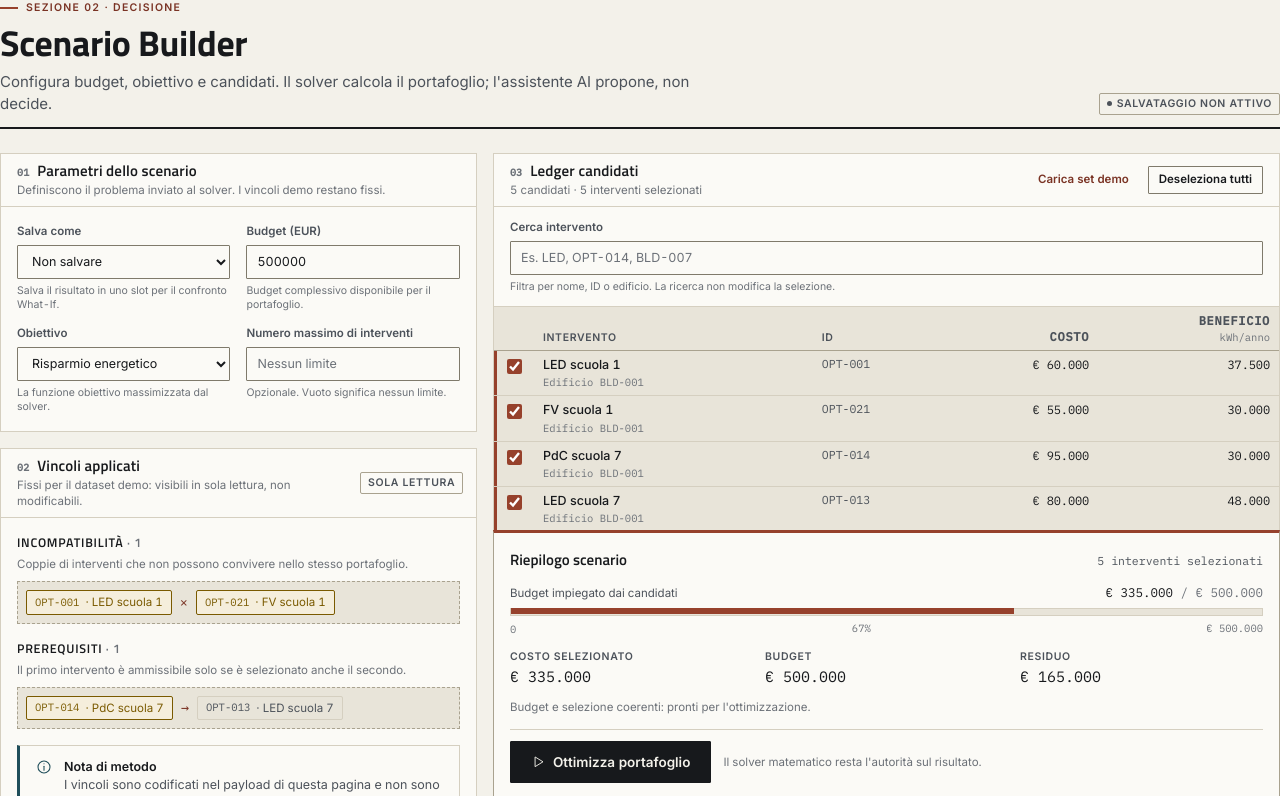
Scenario: ScenarioBuilder › ledger: ricerca filtrabile, checkbox accessibili e selezione totale
Expected: the checkbox named "Seleziona LED scuola 1" is checked, [507,359,522,374]
Expected: the text "5 candidati · 5 interventi selezionati" is shown, [510,182,702,198]
Type "FV" into the search field labelled "Cerca intervento" at (886, 258), box [510,241,1263,275]
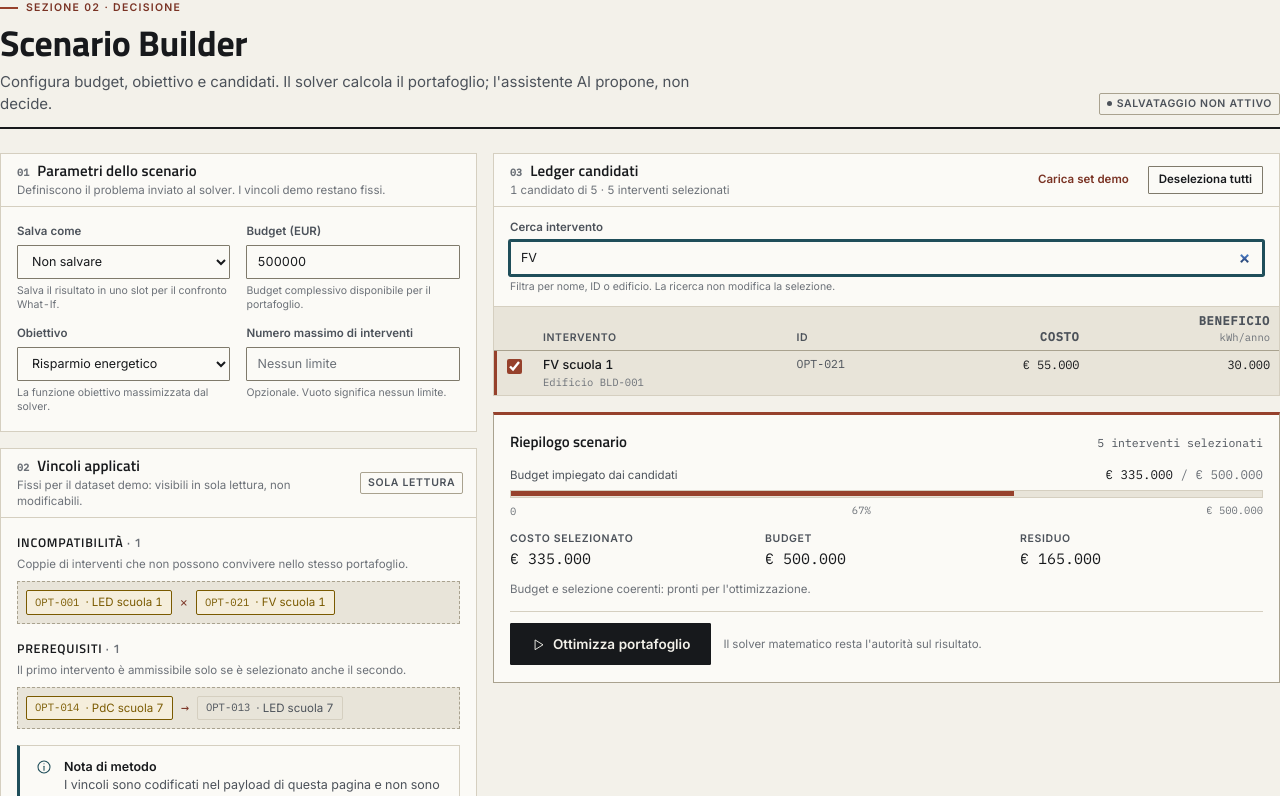
Expected: the checkbox named "Seleziona FV scuola 1" is shown, [507,359,522,374]
Now the text "1 candidato di 5 · 5 interventi selezionati" is shown, box [510,182,730,198]
Clear the search field labelled "Cerca intervento" at (886, 258), box [510,241,1263,275]
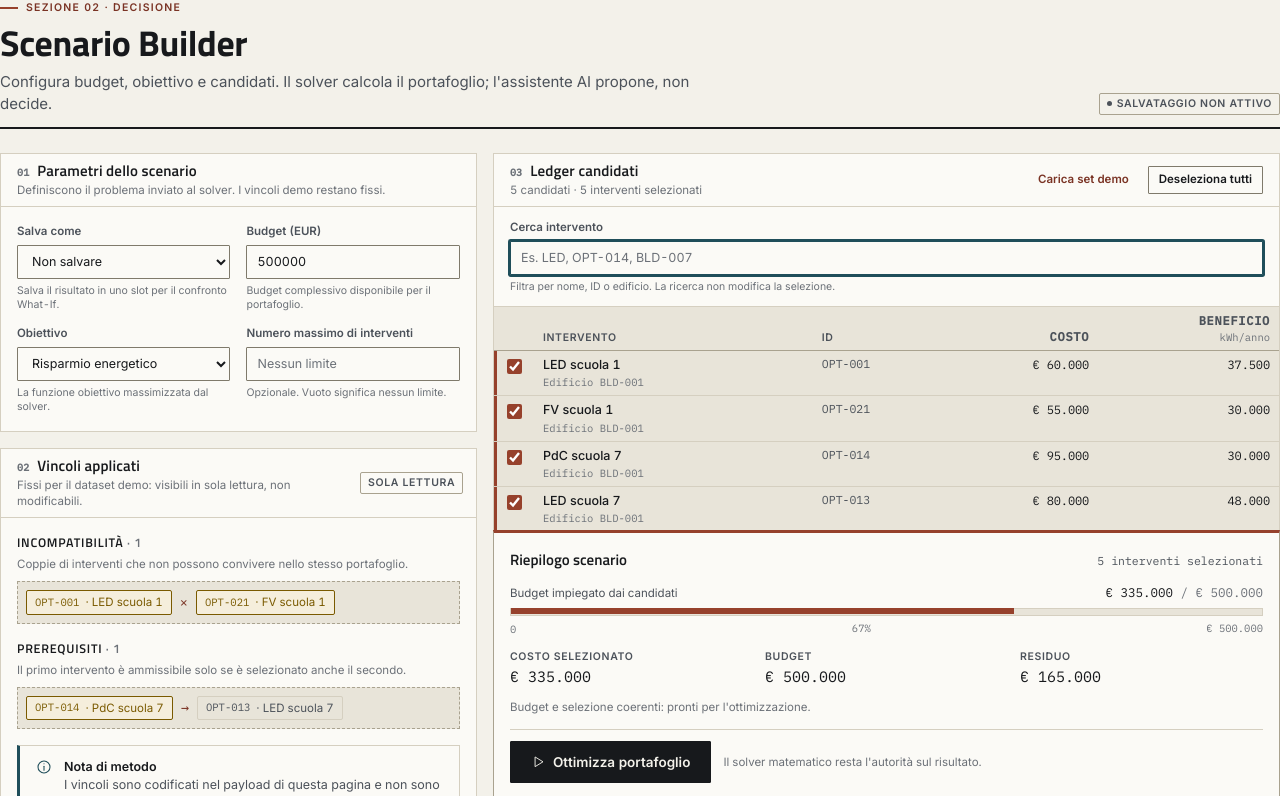
Click the button "Deseleziona tutti" at (1205, 180), box [1148,166,1263,194]
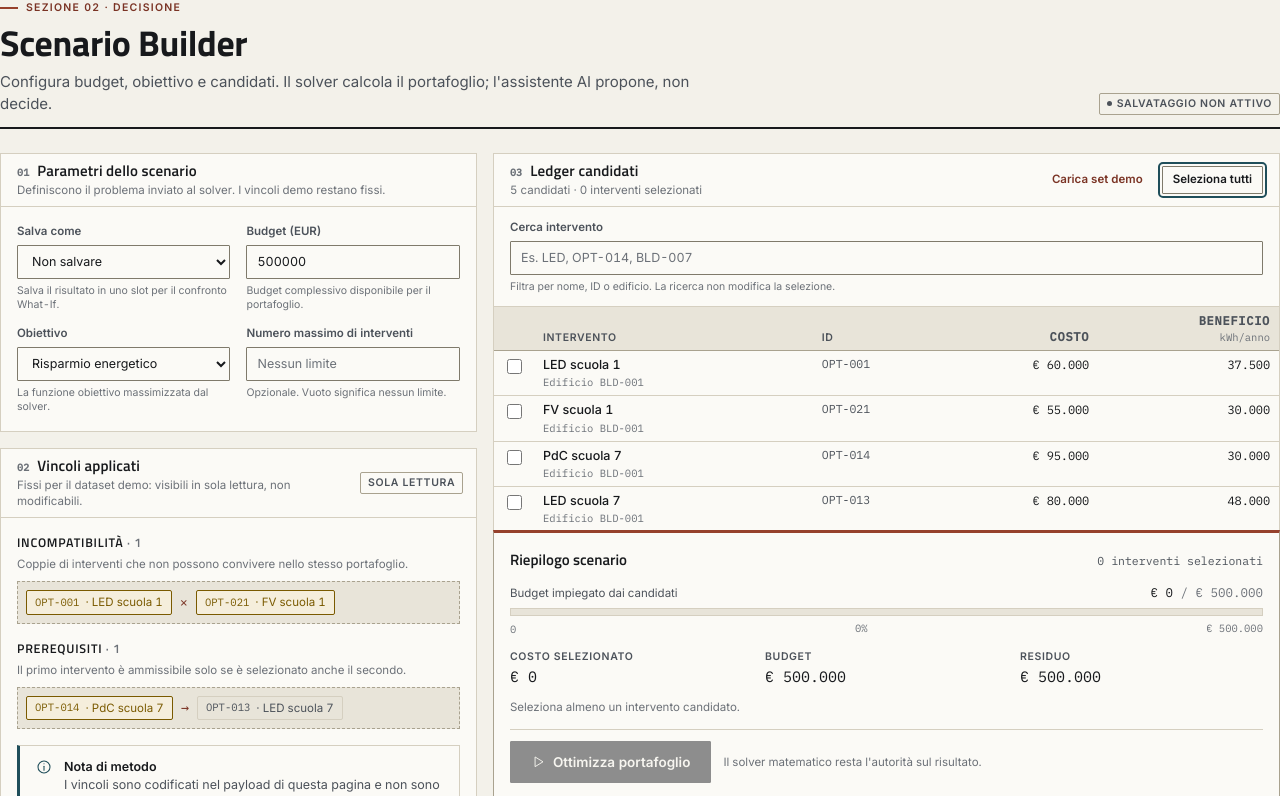
Now the checkbox named "Seleziona LED scuola 1" is not checked, box [507,359,522,374]
Now the text "0 interventi selezionati" is shown, box [1097,553,1263,569]
Click the button "Seleziona tutti" at (1212, 180), box [1162,166,1263,194]
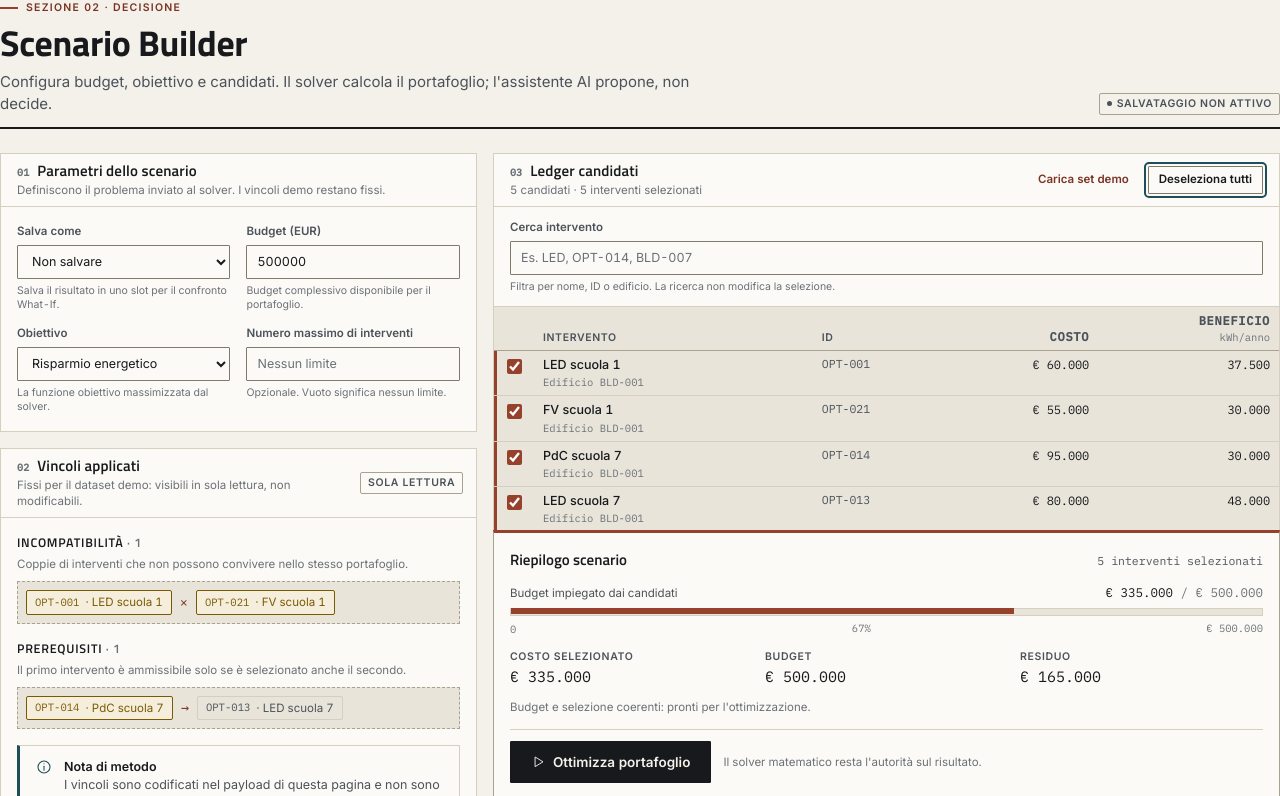
Now the checkbox named "Seleziona LED scuola 1" is checked, box [507,359,522,374]
